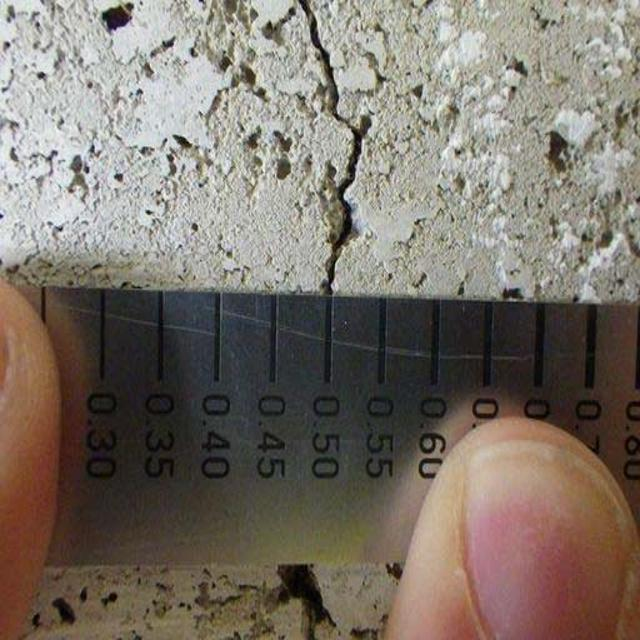crack: (297, 15, 374, 288)
